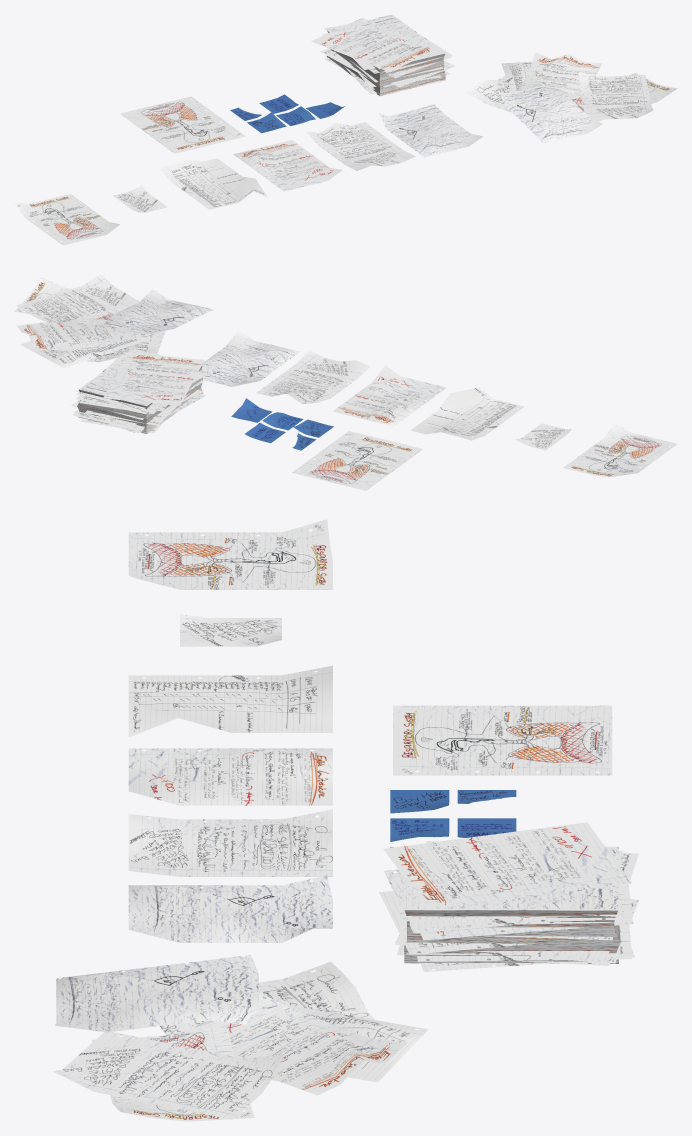
The picture shows the model from 3 angles, top to bottom: view 1: azimuth 30°, elevation 25°; view 2: azimuth 150°, elevation 25°; view 3: azimuth 270°, elevation 25°; orthographic projection. The views are drawn at different scales.
Parts seen in each view (by area): view 1: SM_PapersCluster_7, SM_PaperStack_13, SM_FlatPaper_0, SM_Papers_03_3, SM_Papers_05_5, SM_Papers_06_6, SM_Papers_04_4, SM_Papers_01_1, SM_Papers_02_2, SM_StickyNote_02_8, SM_StickyNote_03_10, SM_StickyNote_04_11 (+1 smaller); view 2: SM_PapersCluster_7, SM_PaperStack_13, SM_FlatPaper_0, SM_Papers_04_4, SM_Papers_03_3, SM_Papers_05_5, SM_Papers_01_1, SM_Papers_06_6, SM_Papers_02_2, SM_StickyNote_05_12, SM_StickyNote_04_11, SM_StickyNote_03_10 (+1 smaller); view 3: SM_PapersCluster_7, SM_PaperStack_13, SM_FlatPaper_0, SM_Papers_05_5, SM_Papers_01_1, SM_Papers_03_3, SM_Papers_04_4, SM_Papers_06_6, SM_Papers_02_2, SM_StickyNote_02_8, SM_StickyNote_03_10, SM_StickyNote_04_11.
Boxes of the visible parts, x1,y1,x2,y2 form: SM_PapersCluster_7: [465, 52, 677, 143]; SM_PaperStack_13: [311, 14, 455, 95]; SM_FlatPaper_0: [120, 96, 245, 153]; SM_Papers_03_3: [158, 158, 267, 209]; SM_Papers_05_5: [306, 122, 415, 170]; SM_Papers_06_6: [379, 103, 483, 157]; SM_Papers_04_4: [233, 140, 342, 191]; SM_Papers_01_1: [14, 194, 119, 245]; SM_Papers_02_2: [113, 185, 167, 212]; SM_StickyNote_02_8: [247, 112, 286, 133]; SM_StickyNote_03_10: [276, 106, 315, 126]; SM_StickyNote_04_11: [259, 94, 298, 113]; SM_PapersCluster_7: [14, 274, 213, 368]; SM_PaperStack_13: [71, 349, 207, 433]; SM_FlatPaper_0: [292, 431, 422, 490]; SM_Papers_04_4: [332, 365, 446, 426]; SM_Papers_03_3: [410, 387, 524, 440]; SM_Papers_05_5: [256, 351, 370, 404]; SM_Papers_01_1: [563, 424, 677, 476]; SM_Papers_06_6: [201, 330, 299, 386]; SM_Papers_02_2: [515, 423, 571, 450]; SM_StickyNote_05_12: [231, 398, 272, 422]; SM_StickyNote_04_11: [245, 423, 285, 443]; SM_StickyNote_03_10: [262, 412, 303, 430]; SM_PapersCluster_7: [53, 954, 428, 1121]; SM_PaperStack_13: [379, 822, 638, 971]; SM_FlatPaper_0: [393, 705, 612, 775]; SM_Papers_05_5: [128, 809, 332, 876]; SM_Papers_01_1: [128, 519, 332, 589]; SM_Papers_03_3: [128, 665, 332, 736]; SM_Papers_04_4: [128, 748, 332, 805]; SM_Papers_06_6: [128, 875, 332, 942]; SM_Papers_02_2: [180, 614, 281, 646]; SM_StickyNote_02_8: [390, 790, 449, 813]; SM_StickyNote_03_10: [390, 818, 449, 841]; SM_StickyNote_04_11: [457, 818, 516, 837].
Size of the model in its own units: 1.8 by 0.0971 by 0.7454.
Materials: 1 (1 with a texture image).
